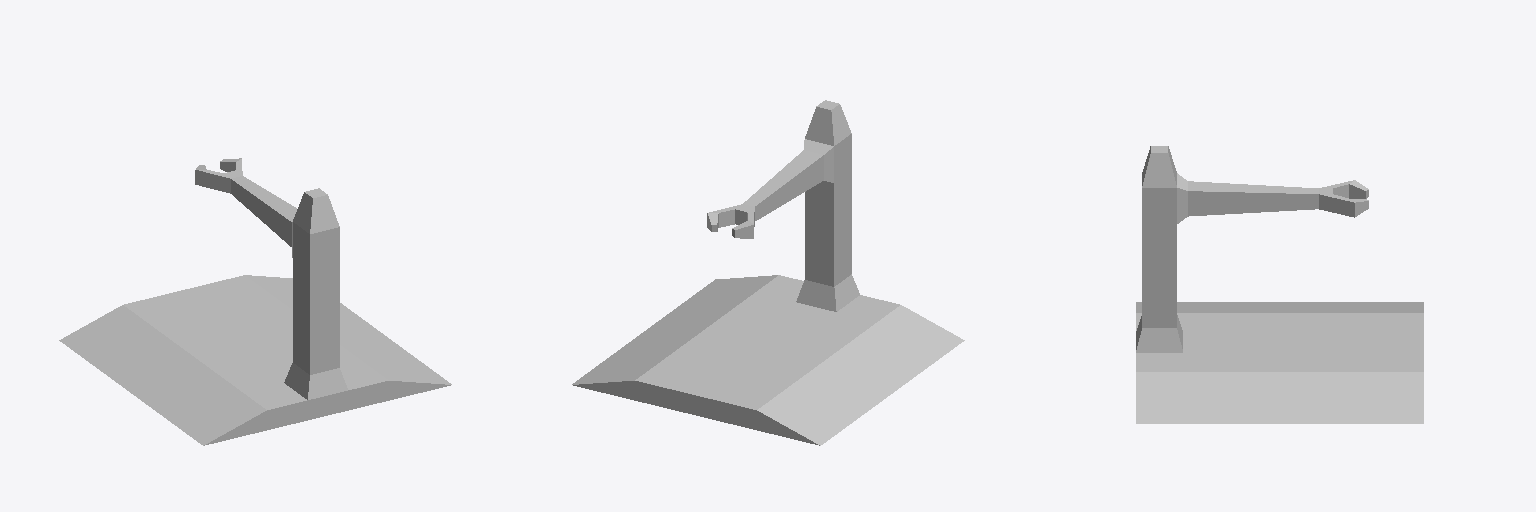
The model's file is stand_flask.obj.
3 renders of one model, left to right at view 1: azimuth 30°, elevation 25°; view 2: azimuth 150°, elevation 25°; view 3: azimuth 270°, elevation 25°, orthographic.
Visible parts, largest first — view 1: Stand_Plane.001; view 2: Stand_Plane.001; view 3: Stand_Plane.001.
Boxes of the visible parts, <box> form: Stand_Plane.001: <box>59,158,451,445</box>; Stand_Plane.001: <box>572,100,964,445</box>; Stand_Plane.001: <box>1136,146,1423,423</box>.
Size of the model in its own units: 1 by 0.8169 by 1.